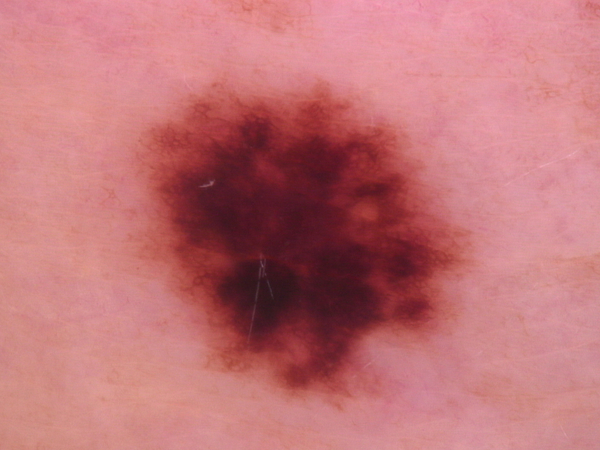Detected Lesion: (139, 75, 469, 417)
